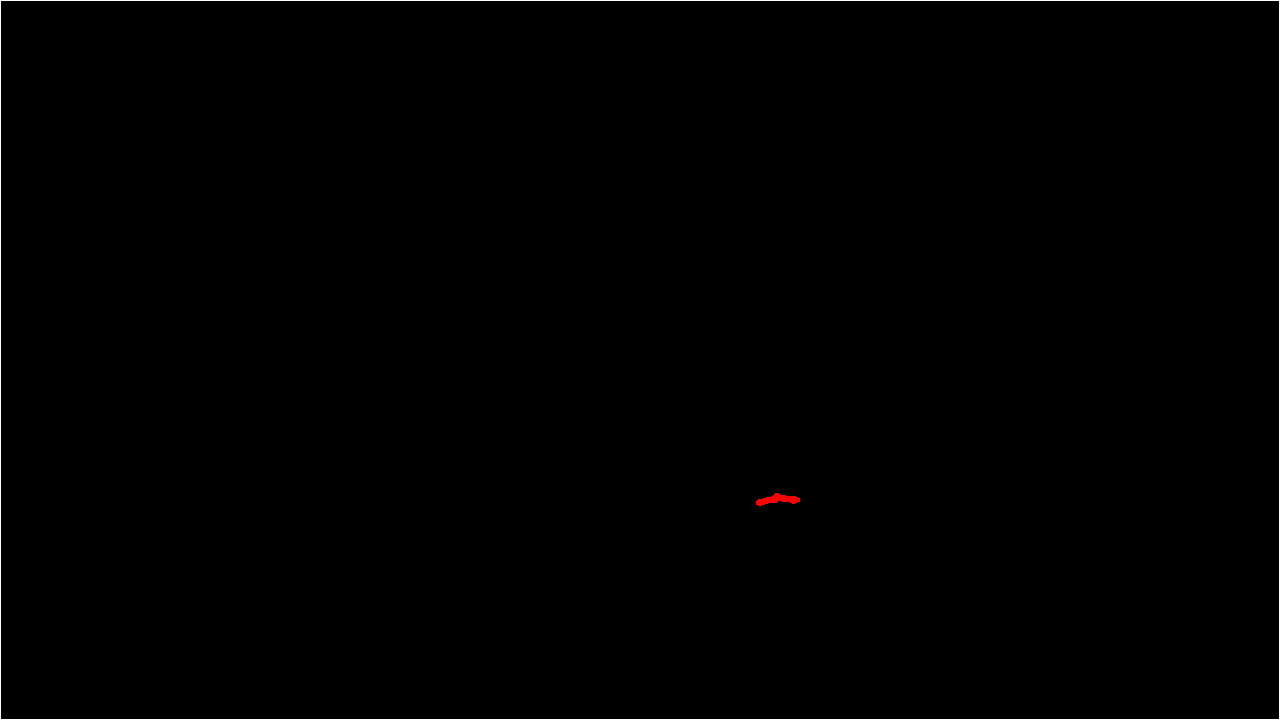drone: (737, 480, 821, 523)
